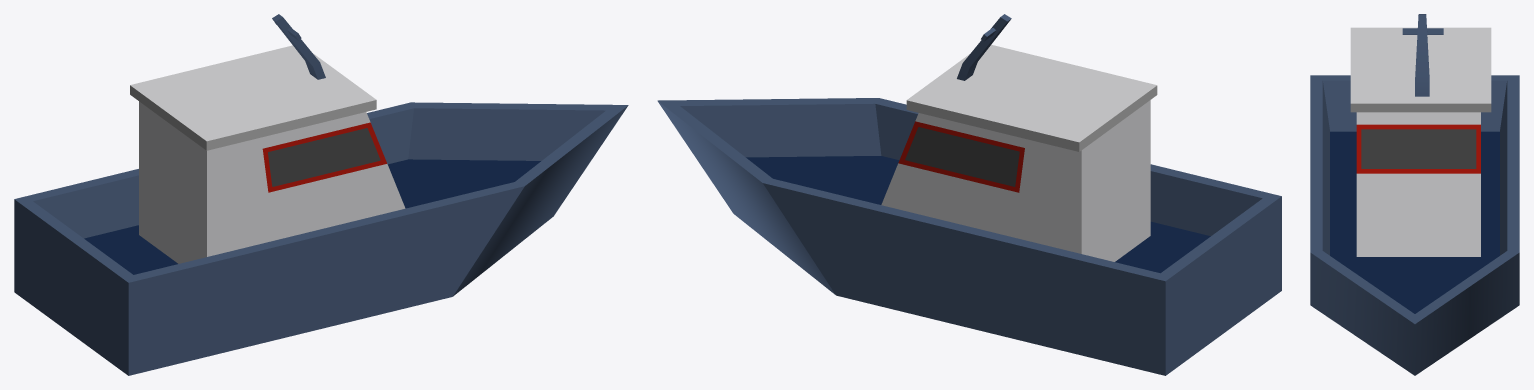
File: boat4.FBX
3 views of the same model, side by side, from view 1: azimuth 30°, elevation 25°; view 2: azimuth 150°, elevation 25°; view 3: azimuth 270°, elevation 25° (orthographic). The views are drawn at different scales.
Parts seen in each view (by area): view 1: boat4; view 2: boat4; view 3: boat4.
Part boxes in pixels (bbox=[...]): boat4: bbox=[14, 14, 628, 375]; boat4: bbox=[657, 14, 1281, 375]; boat4: bbox=[1310, 14, 1519, 375].
Bounding box in the file's own units: 13.52 × 6.11 × 4.81.
